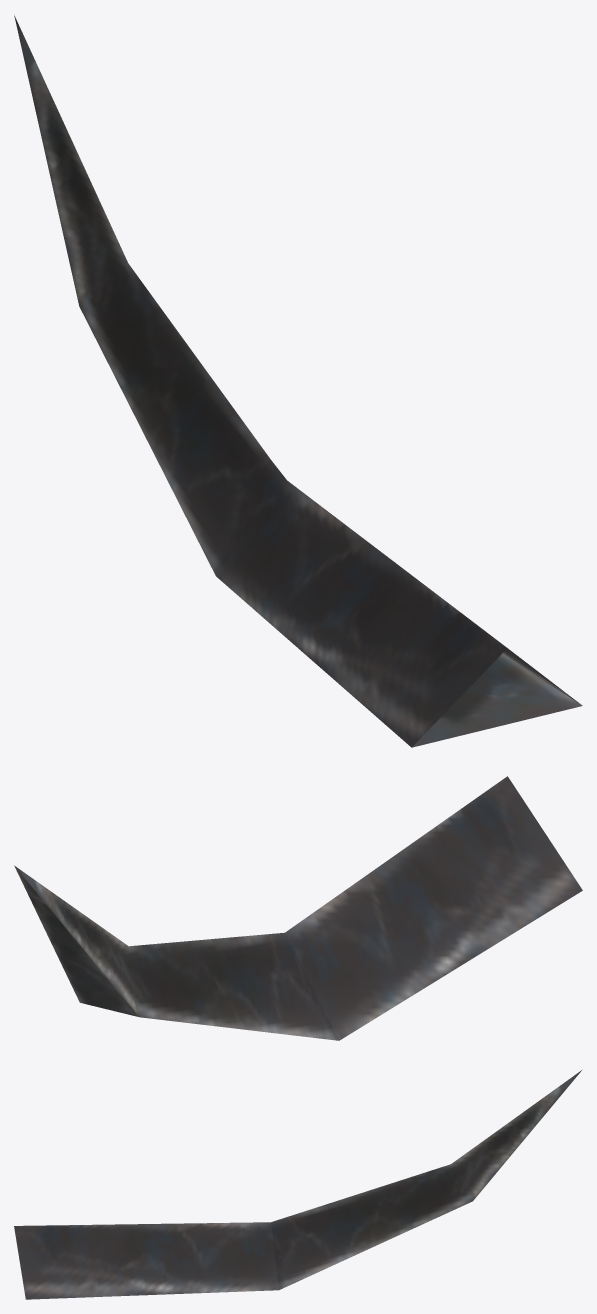
The model's file is A_tiezhui01.fbx.
The picture shows the model from 3 angles, top to bottom: view 1: azimuth 30°, elevation 25°; view 2: azimuth 150°, elevation 25°; view 3: azimuth 270°, elevation 25°; orthographic projection. The views are drawn at different scales.
Visible parts, largest first — view 1: A_tiezhui01; view 2: A_tiezhui01; view 3: A_tiezhui01.
Part boxes in pixels (bbox=[...]): A_tiezhui01: bbox=[14, 15, 582, 747]; A_tiezhui01: bbox=[14, 776, 582, 1040]; A_tiezhui01: bbox=[14, 1070, 581, 1299].
Size of the model in its own units: 26.86 by 53.7 by 134.
